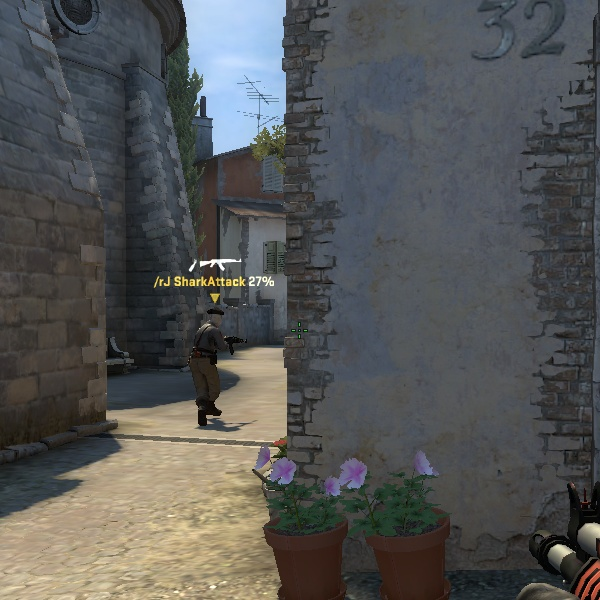t_body: (166, 307, 248, 430)
